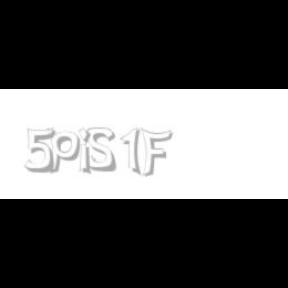1: (120, 128, 142, 176)
5: (24, 128, 56, 174)
F: (140, 128, 172, 178)
S: (86, 128, 118, 172)
i: (78, 128, 94, 176)
p: (46, 128, 84, 174)
